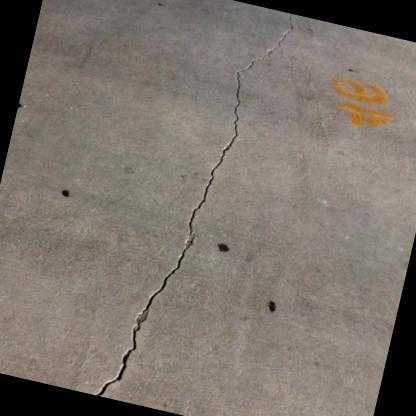crack: (90, 25, 296, 398)
